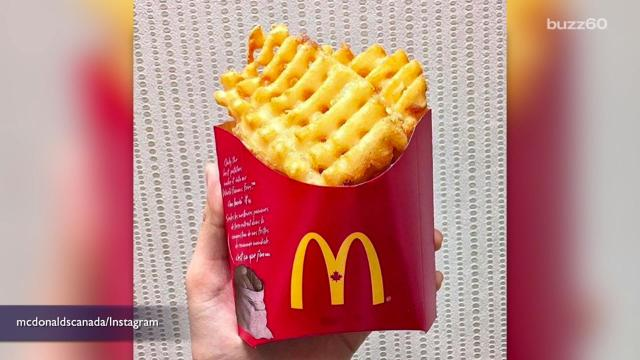mcdonalds: (278, 226, 395, 324)
